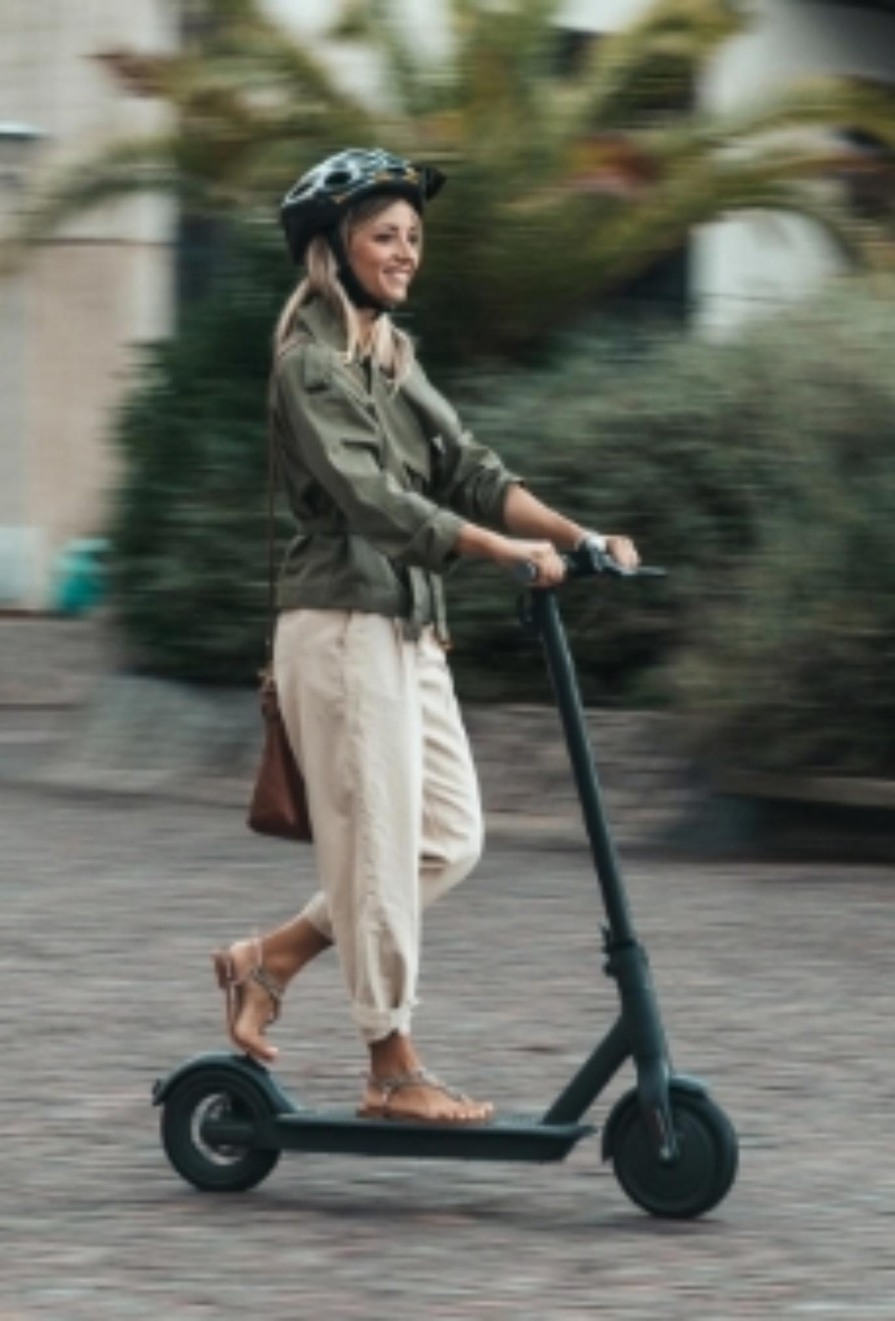helmet: (243, 124, 449, 321)
human: (191, 145, 577, 1119)
kickboard: (168, 1077, 770, 1215)
